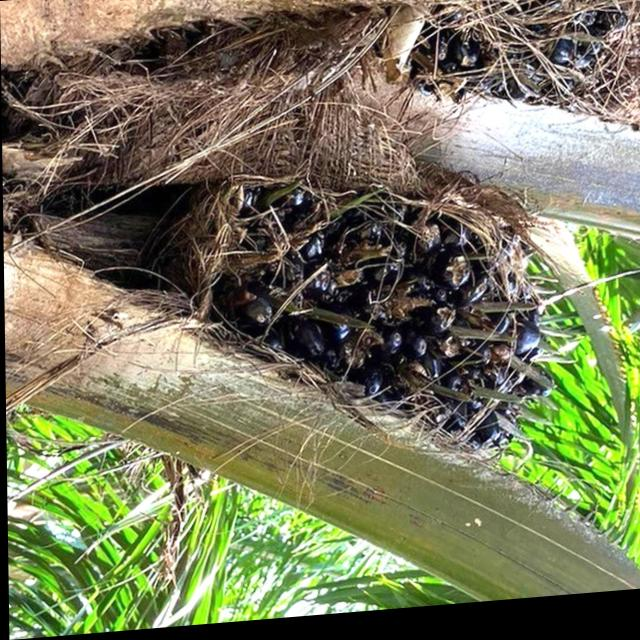unripe: (171, 167, 538, 482)
